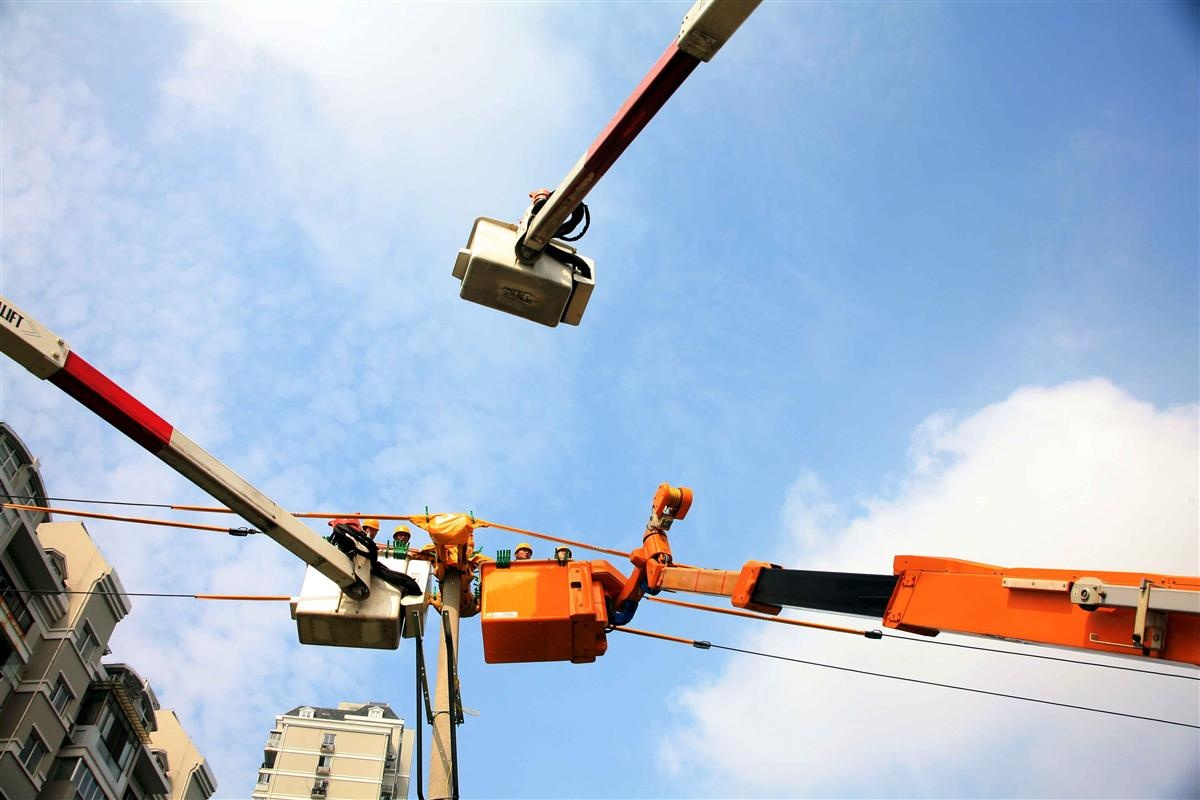yellow: (360, 517, 381, 539), (393, 524, 413, 547), (514, 541, 532, 560), (553, 544, 572, 561)
